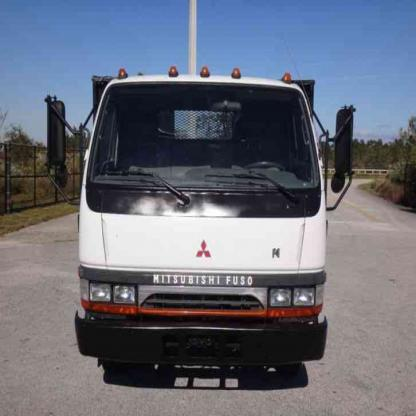truck: (49, 67, 354, 379)
